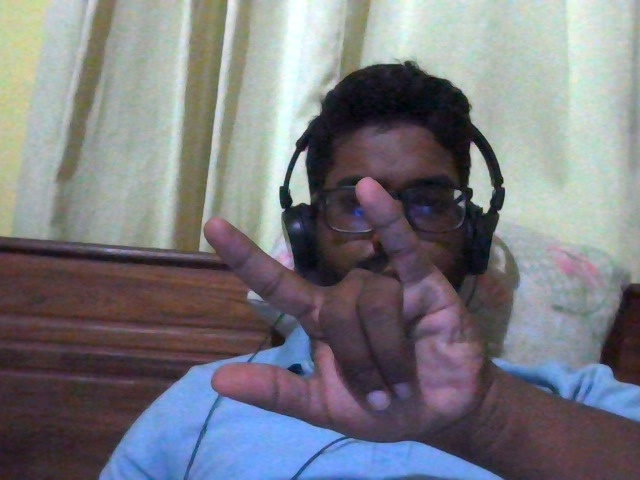I Love You: (183, 168, 513, 460)
